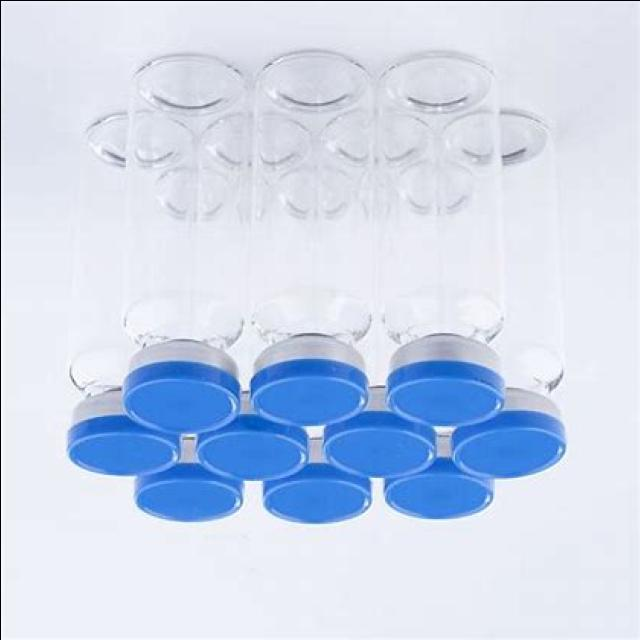vial: (298, 414, 434, 478), (376, 356, 499, 424), (249, 358, 367, 424), (179, 426, 315, 482), (64, 424, 178, 478), (128, 380, 233, 437), (448, 428, 570, 474), (136, 478, 242, 530), (384, 472, 490, 520), (272, 481, 369, 523)
